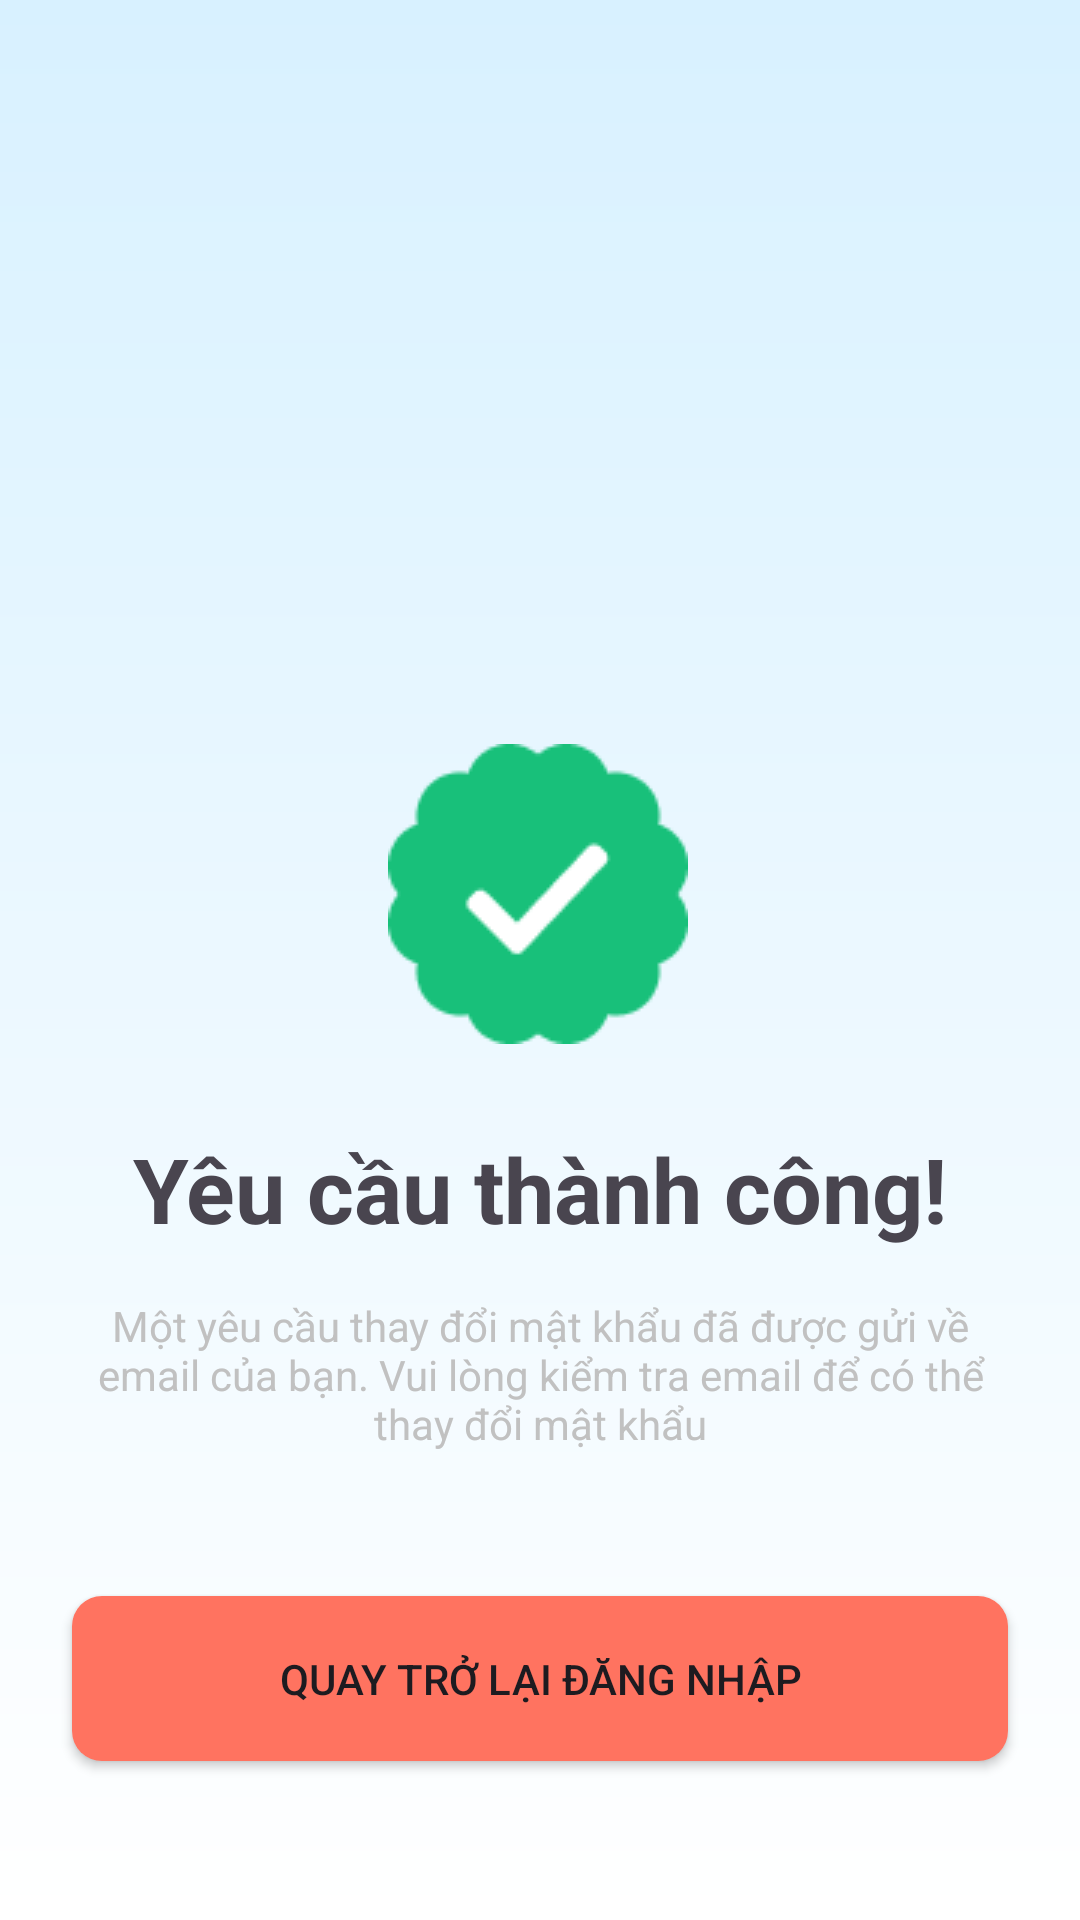

Named icons in this screenshot (1080 × 1920) and their bounding boxes, (x1, y1, x2, y2):
success: (388, 744, 688, 1044)
